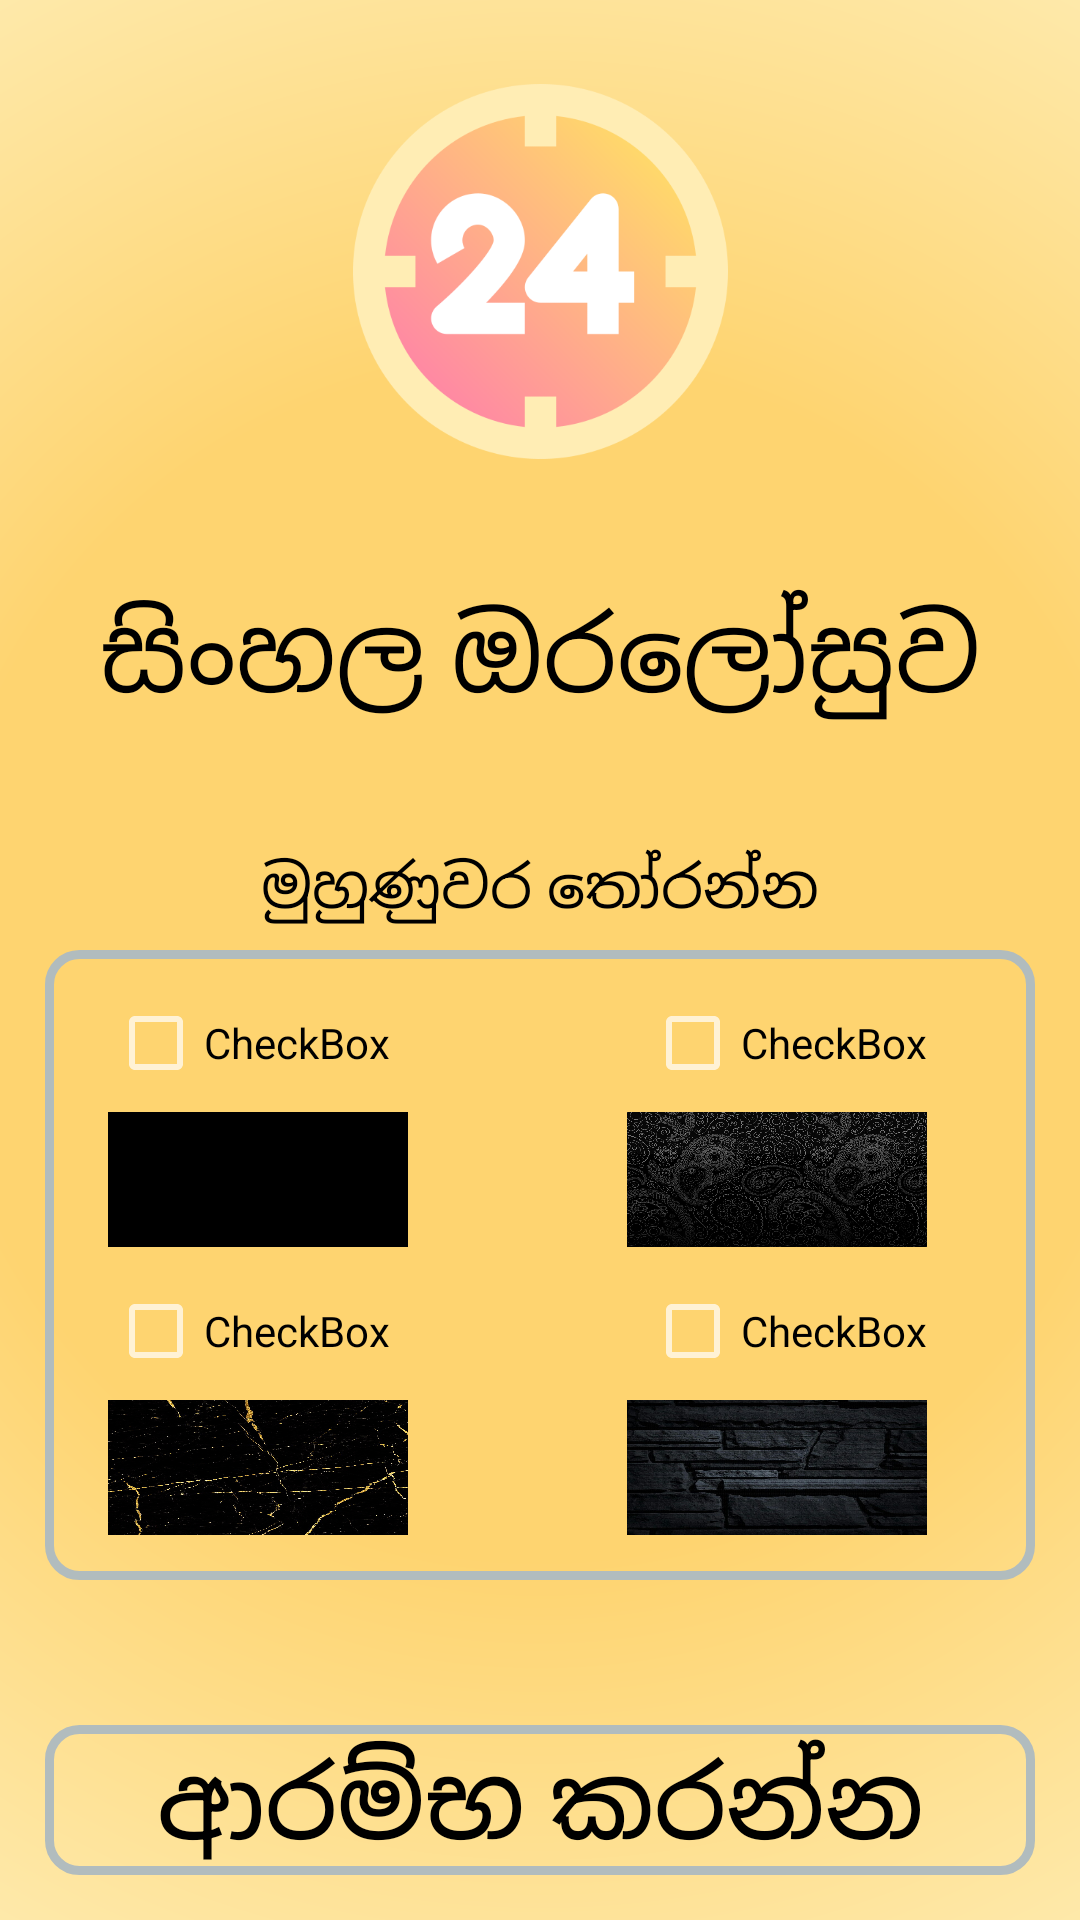

Icon bounding boxes for this 1080 x 1920 phone screenshot, format bbox=[x1, y1, x2, y2]:
lastbck: bbox=[627, 1400, 927, 1535]
sndbackgrund: bbox=[627, 1112, 927, 1247]
